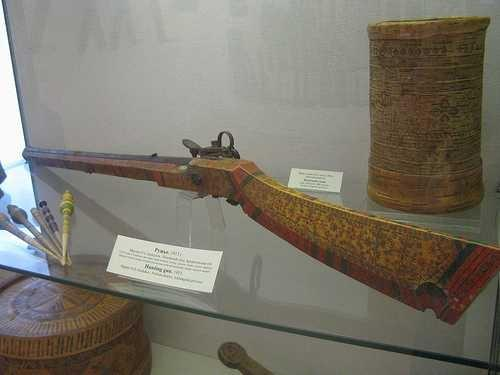heavyweapon: (13, 129, 500, 337)
